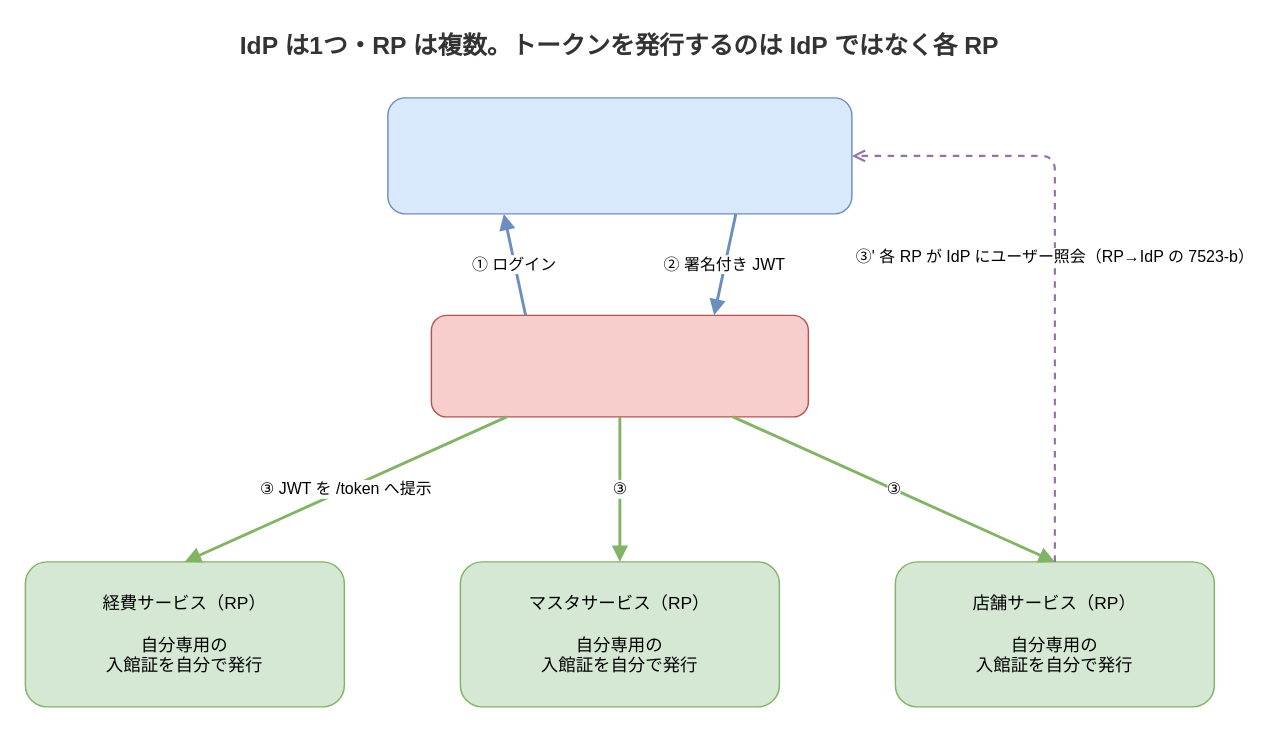
The diagram is 1279 pixels wide and 732 high, and some of its shapes have lost their labels. The shapes that lost their labels are listed below. From the top down, each one's box as (x1, y1, x2, y2) in pixels, then its label:
(386, 96, 852, 214): IdP（統合認証サーバー） ・身分証となる署名付き JWT を発行 ・RP からの「このユーザーで合ってる?」に応答
(430, 314, 808, 417): モバイルアプリ（public client） 秘密鍵 (client secret) を安全に持てない
